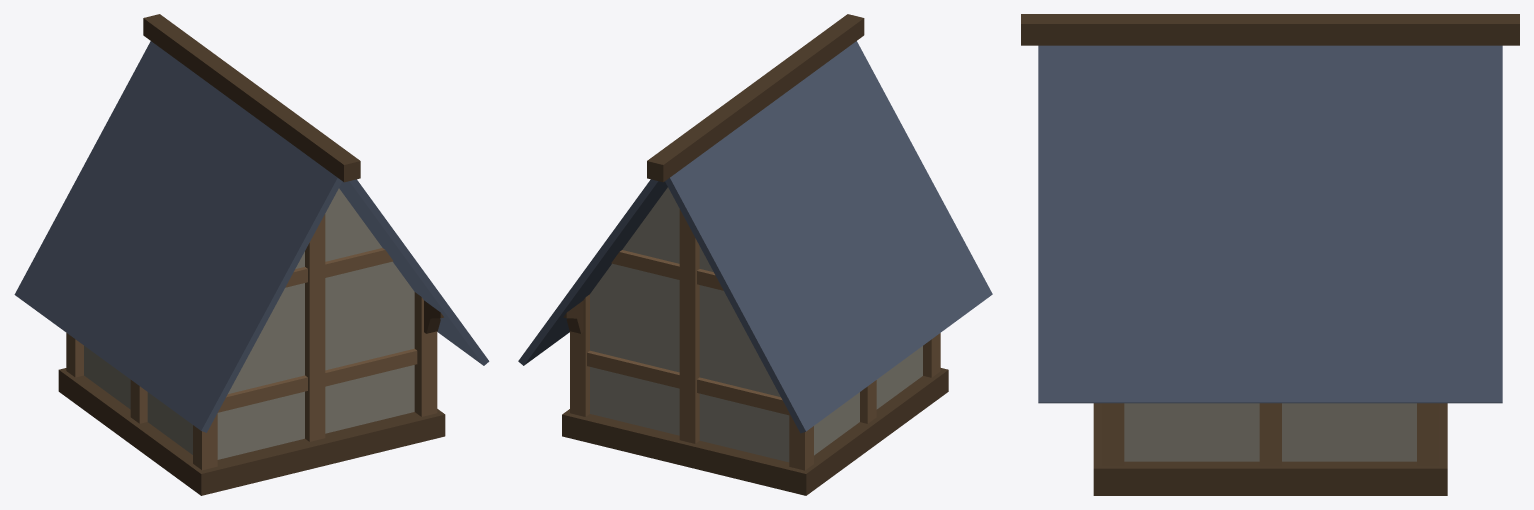
The model's file is M_HouseTower_Roof.fbx.
3 views of the same model, side by side, from view 1: azimuth 30°, elevation 25°; view 2: azimuth 150°, elevation 25°; view 3: azimuth 270°, elevation 25° (orthographic). The views are drawn at different scales.
Parts seen in each view (by area): view 1: Toit, pCube146, Sol, Poutre_toit_2, pCube148, pCube147, pCube154, pCube131, pCube157, pCube111, pCube17, pCube156; view 2: Toit, pCube150, Sol, Poutre_toit_2, pCube151, pCube149, pCube154, pCube16, pCube158, pCube17, pCube111, pCube156; view 3: Toit, pCube150, Poutre_toit_2, Sol, pCube151, pCube131, pCube16.
Part boxes in pixels (x1=…): Toit: x1=14, y1=41, x2=489, y2=432; pCube146: x1=217, y1=188, x2=414, y2=459; Sol: x1=58, y1=368, x2=445, y2=495; Poutre_toit_2: x1=143, y1=14, x2=360, y2=182; pCube148: x1=305, y1=214, x2=325, y2=441; pCube147: x1=218, y1=348, x2=417, y2=412; pCube154: x1=84, y1=346, x2=192, y2=454; pCube131: x1=414, y1=292, x2=437, y2=416; pCube157: x1=285, y1=248, x2=393, y2=287; pCube111: x1=193, y1=413, x2=217, y2=470; pCube17: x1=66, y1=333, x2=83, y2=377; pCube156: x1=130, y1=380, x2=147, y2=423; Toit: x1=518, y1=41, x2=992, y2=433; pCube150: x1=590, y1=187, x2=789, y2=462; Sol: x1=562, y1=368, x2=948, y2=495; Poutre_toit_2: x1=647, y1=14, x2=864, y2=182; pCube151: x1=679, y1=209, x2=699, y2=443; pCube149: x1=587, y1=350, x2=789, y2=415; pCube154: x1=814, y1=346, x2=922, y2=455; pCube16: x1=570, y1=294, x2=589, y2=416; pCube158: x1=611, y1=250, x2=723, y2=290; pCube17: x1=789, y1=413, x2=813, y2=470; pCube111: x1=923, y1=333, x2=940, y2=377; pCube156: x1=860, y1=380, x2=876, y2=423; Toit: x1=1038, y1=45, x2=1502, y2=403; pCube150: x1=1124, y1=403, x2=1416, y2=461; Poutre_toit_2: x1=1021, y1=14, x2=1519, y2=45; Sol: x1=1093, y1=403, x2=1447, y2=495; pCube151: x1=1259, y1=403, x2=1281, y2=466; pCube131: x1=1102, y1=403, x2=1124, y2=465; pCube16: x1=1417, y1=403, x2=1439, y2=465.
Size of the model in its own units: 4.49 by 4.83 by 5.42.
